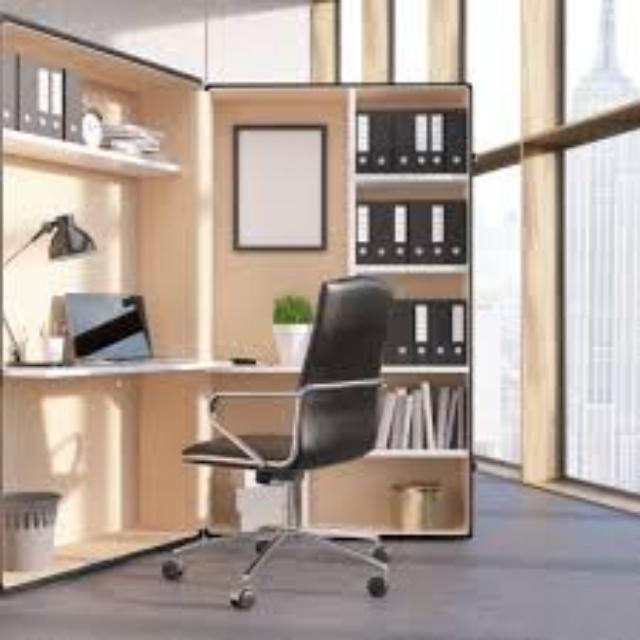obstacle: (176, 251, 422, 603)
